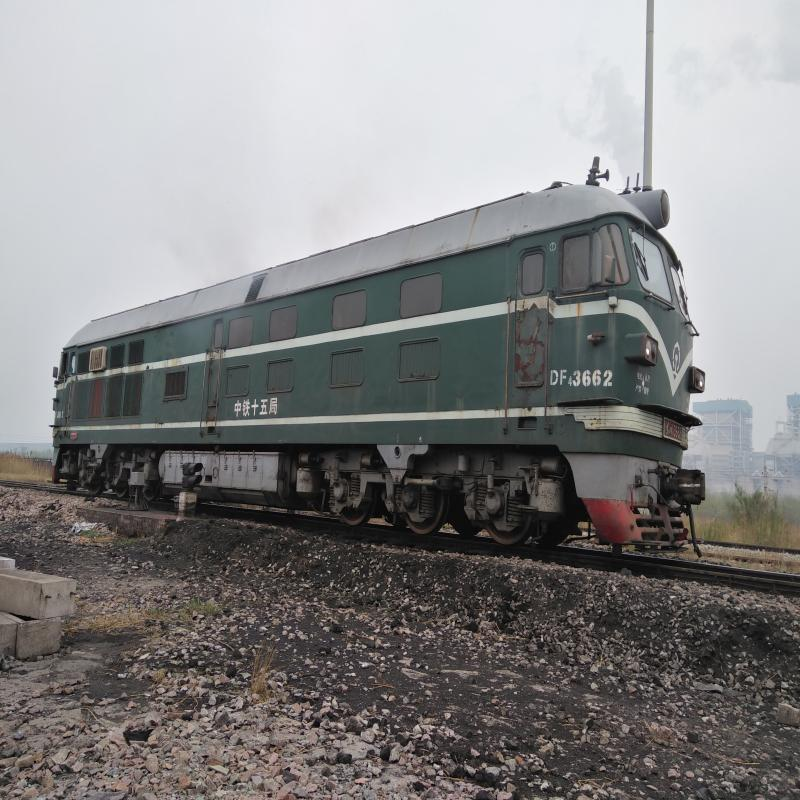train: (81, 206, 707, 556)
